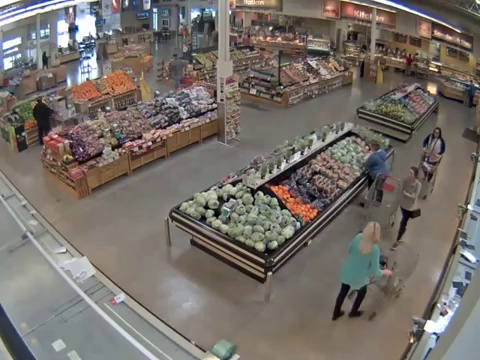face: (406, 172, 417, 180), (433, 130, 441, 138)
